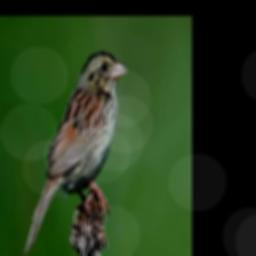Sparrow: (24, 50, 129, 254)
